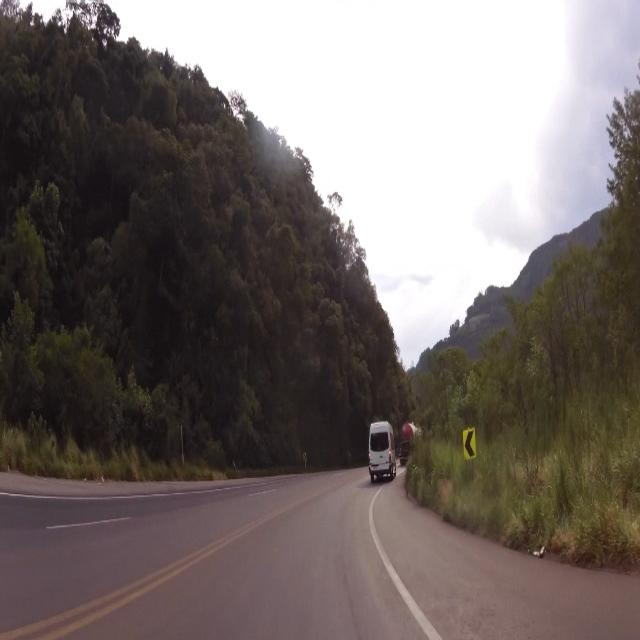Del: (461, 423, 479, 468)
